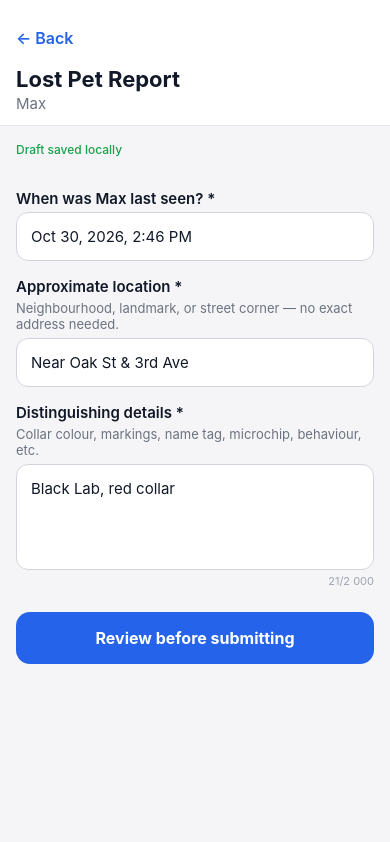
Test: LostPetReportScreen — review modal › opens review modal when Review button pressed and reviewDraft succeeds
The width and height of the screenshot is (390, 842).
Click the button with aria-label "Review and consent". click: (195, 638)
box: [16,612,374,664]
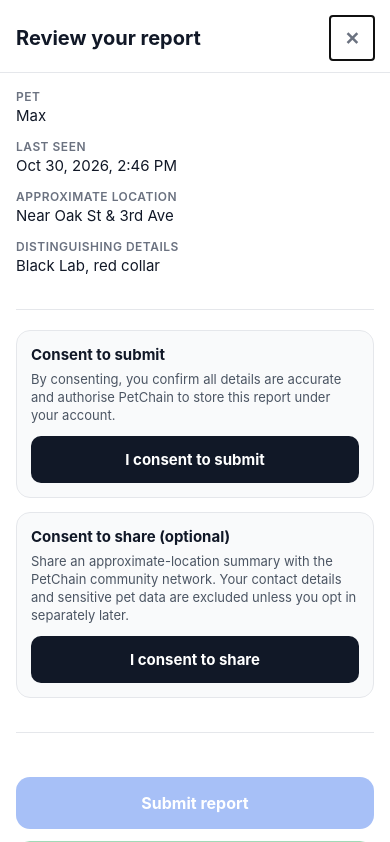
Check: the heading "Review your report" is shown, box [16,26,201,50]
